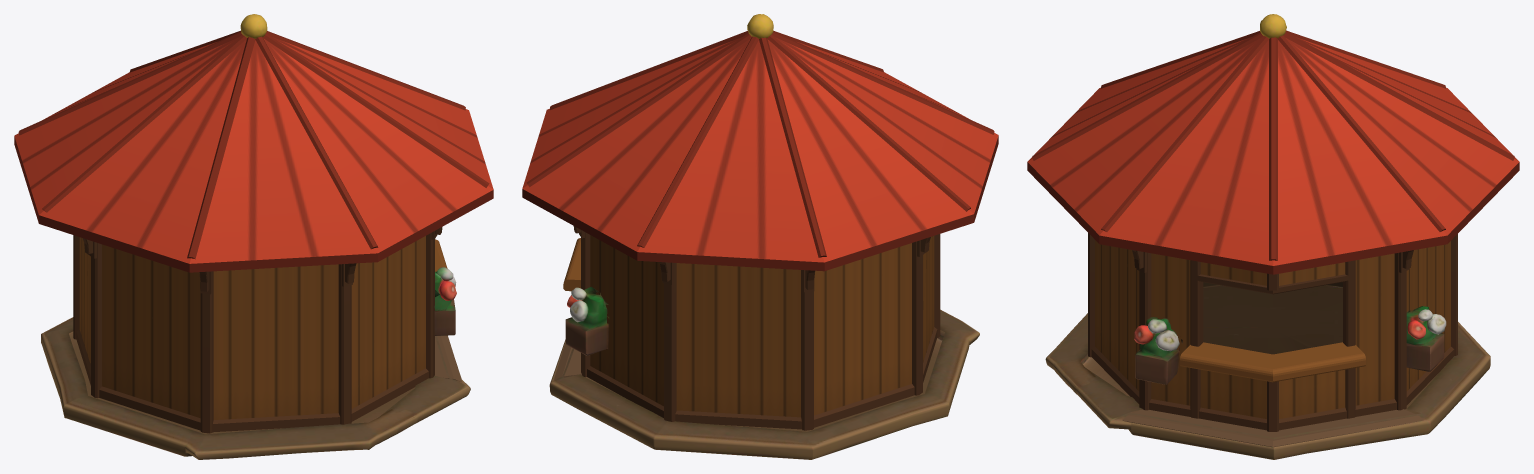
The model's file is kiosk-cafe-crafted.glb.
3 views of the same model, side by side, from view 1: azimuth 30°, elevation 25°; view 2: azimuth 150°, elevation 25°; view 3: azimuth 270°, elevation 25° (orthographic).
Parts seen in each view (by area): view 1: tripo_node_af78663e-ae54-446d-b977-bd2e0558951b; view 2: tripo_node_af78663e-ae54-446d-b977-bd2e0558951b; view 3: tripo_node_af78663e-ae54-446d-b977-bd2e0558951b.
Part boxes in pixels (x1,y1,x2,y2): tripo_node_af78663e-ae54-446d-b977-bd2e0558951b: [14, 14, 493, 459]; tripo_node_af78663e-ae54-446d-b977-bd2e0558951b: [522, 14, 998, 459]; tripo_node_af78663e-ae54-446d-b977-bd2e0558951b: [1027, 14, 1519, 459].
Bounding box in the file's own units: 1 × 0.7926 × 0.998.
Materials: 1 (1 with a texture image).
